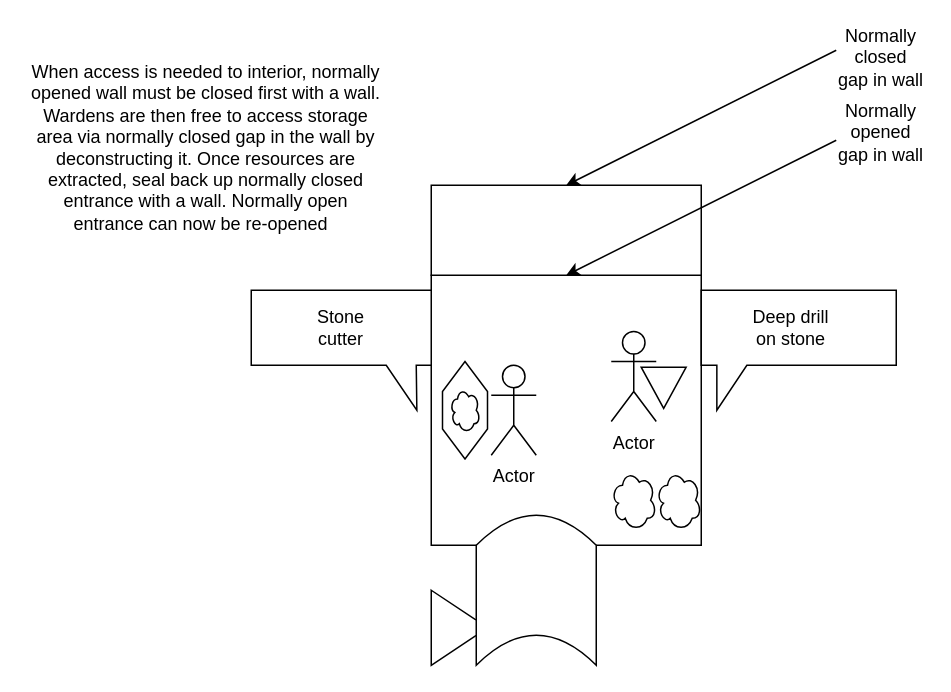
This 951x692 diagram has some shape labels left out. Each missing label, with the centre of its shape:
Airlock / Storage: (x=565, y=229)
Nutrient Paste dispenser: (x=535, y=589)
